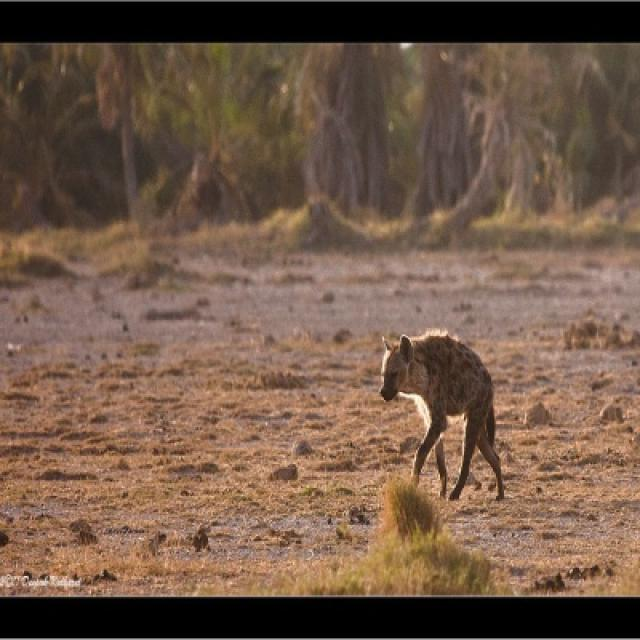hyena: (379, 331, 506, 502)
